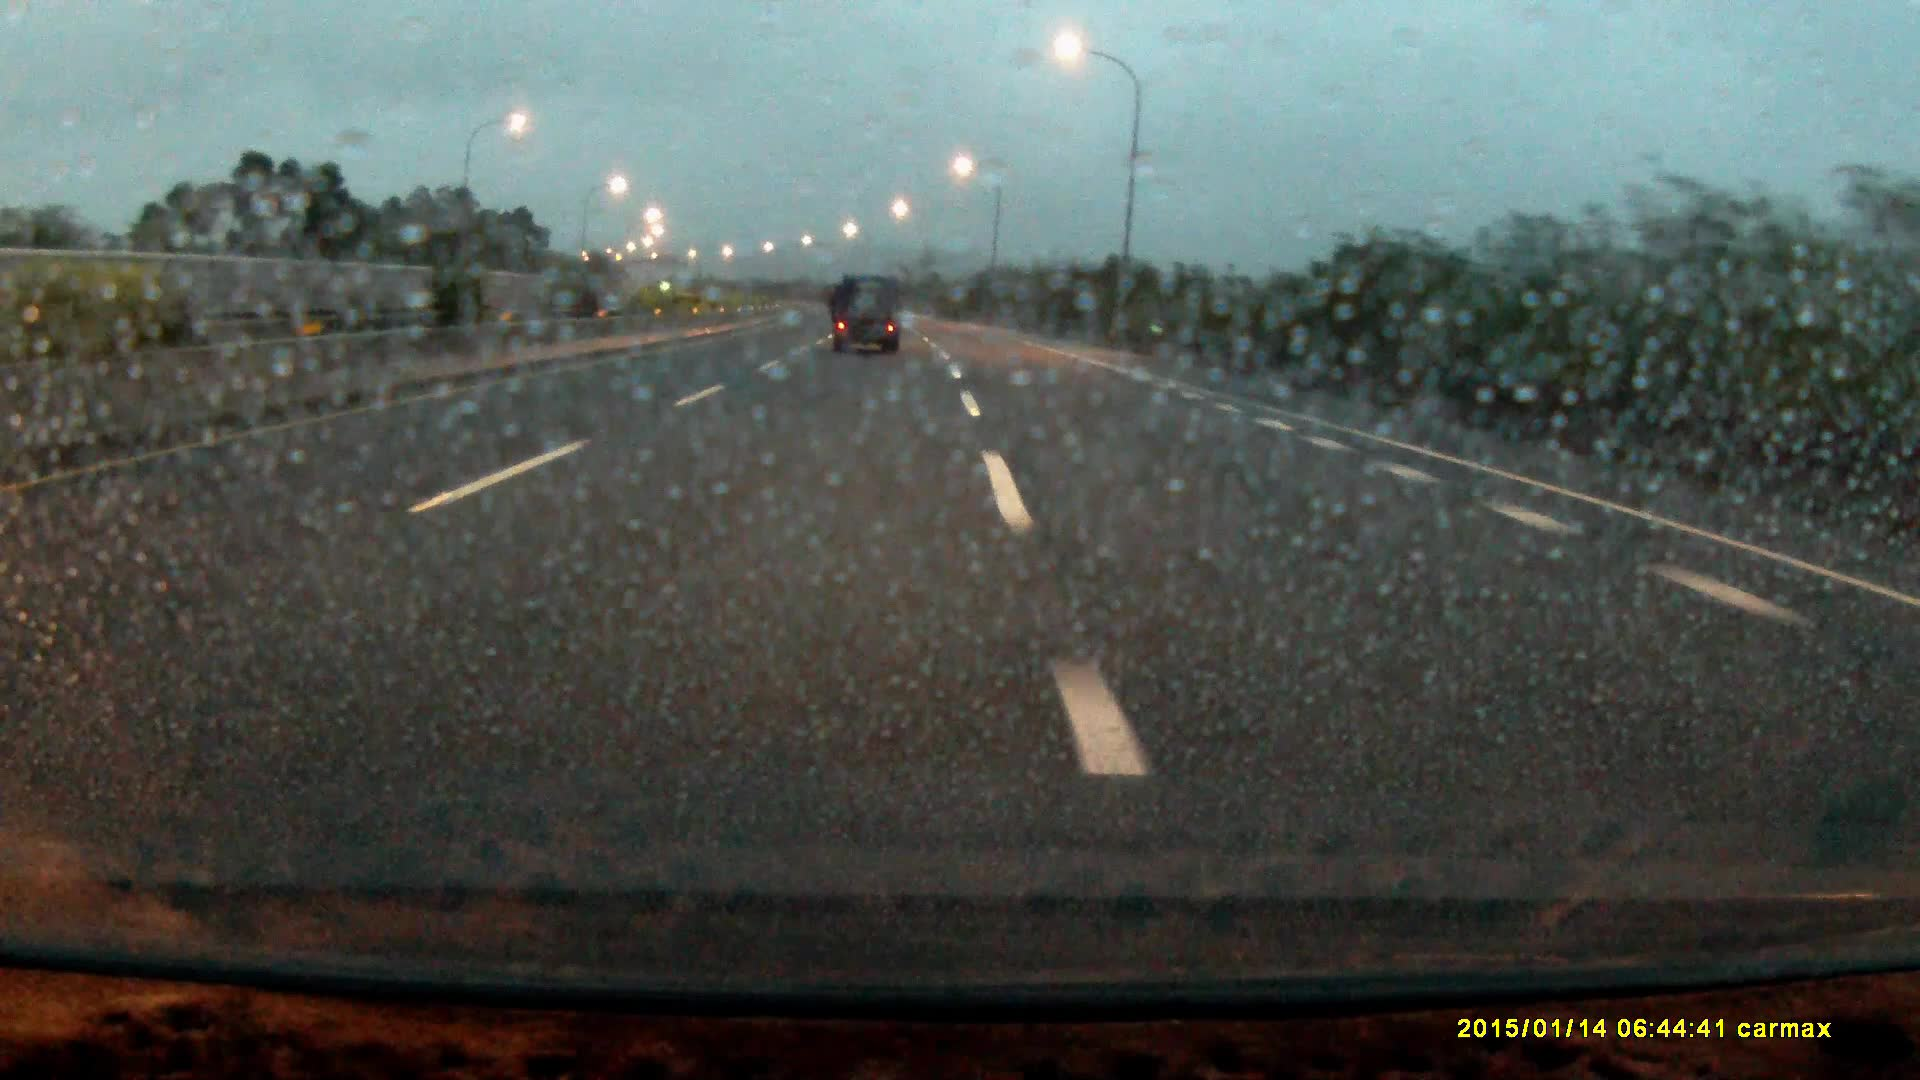vehicle: (831, 268, 905, 356)
